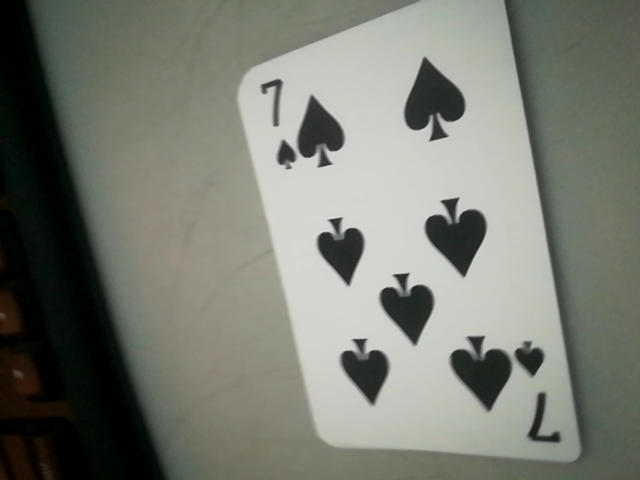ht 7: (515, 337, 566, 453)
